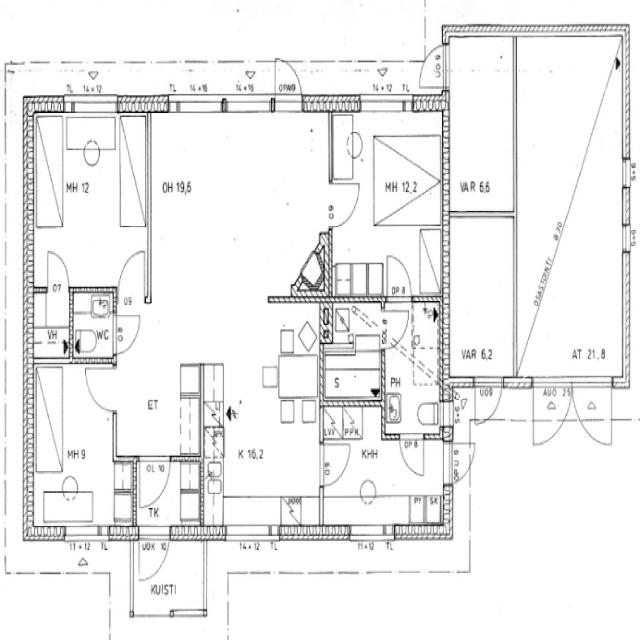door: (326, 153, 380, 241), (72, 284, 116, 386), (270, 54, 306, 113), (135, 452, 172, 509), (80, 358, 117, 415), (327, 176, 364, 228), (381, 250, 414, 307), (138, 525, 170, 583), (319, 437, 354, 490), (116, 248, 150, 300), (381, 294, 411, 350), (112, 307, 144, 357), (474, 374, 504, 425), (420, 38, 448, 90), (43, 246, 73, 294), (397, 433, 426, 480), (59, 469, 84, 504)
window: (223, 518, 281, 546), (218, 91, 274, 116), (65, 94, 119, 117), (170, 92, 226, 114), (347, 521, 393, 547), (357, 93, 414, 113), (63, 520, 104, 542), (618, 155, 636, 192), (619, 220, 635, 256), (170, 605, 206, 619)
zone: (515, 21, 625, 380), (150, 104, 334, 313), (200, 308, 324, 531), (330, 106, 443, 300), (30, 108, 150, 289), (32, 360, 127, 533), (443, 30, 516, 215), (442, 217, 516, 380), (381, 299, 441, 443), (322, 300, 383, 400), (70, 286, 115, 362), (30, 286, 73, 364)
